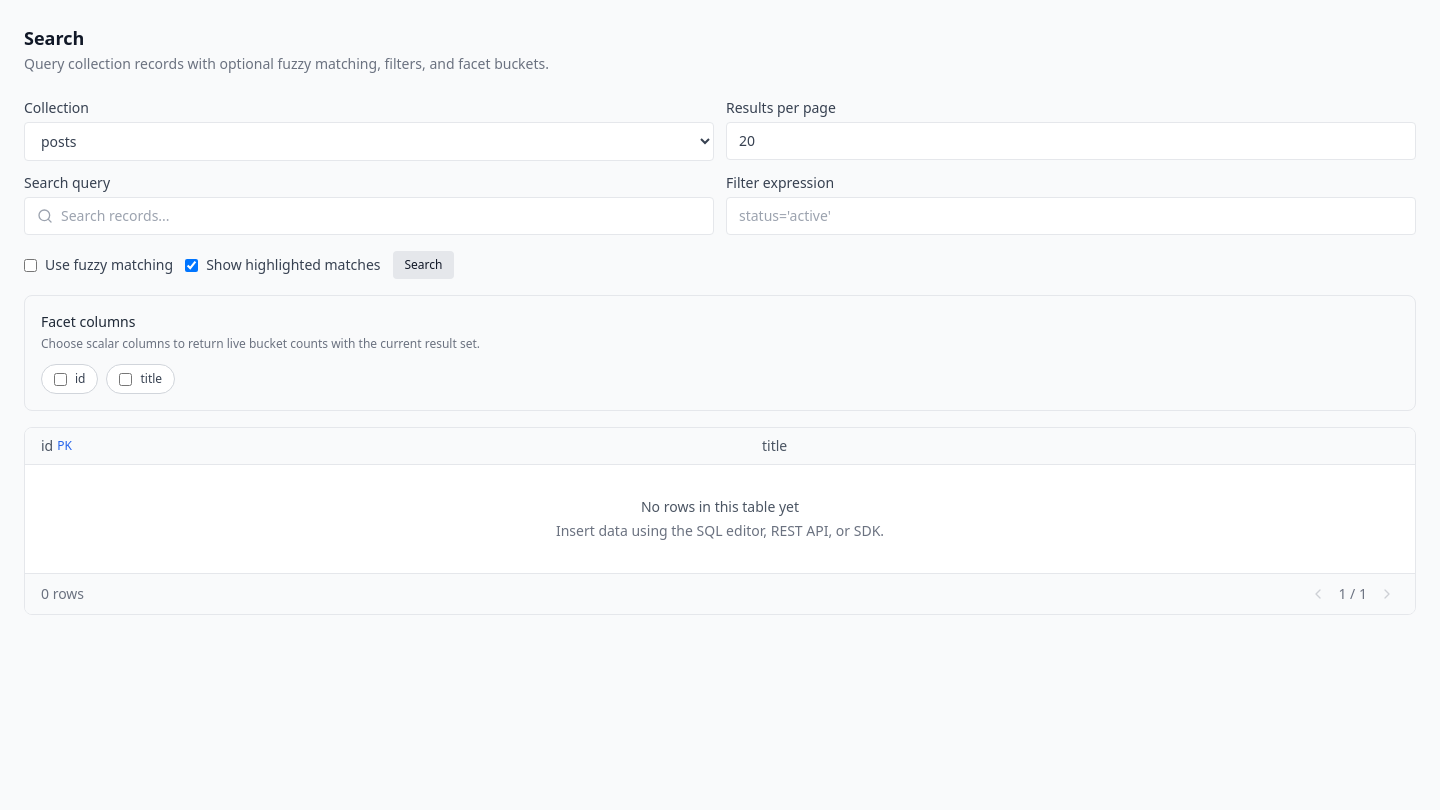
Test: Search › hides the Search-owned snippet surface when highlighted matches are toggled off
The image size is (1440, 810).
Type "alpha" into the field labelled "Search query" at point(381, 216), box [61,206,701,226]
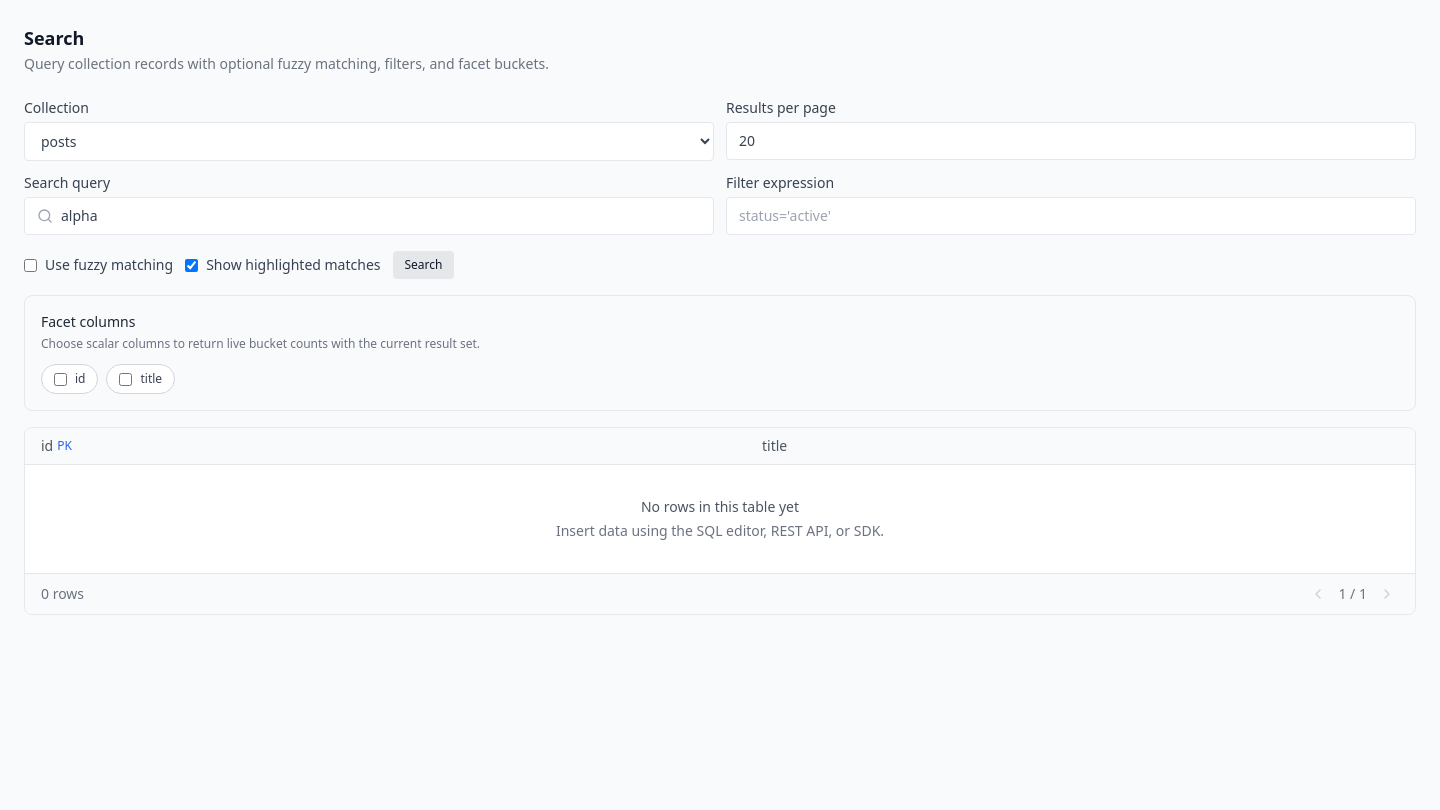
Click the button "Search" at point(424, 265), box [392,251,454,279]
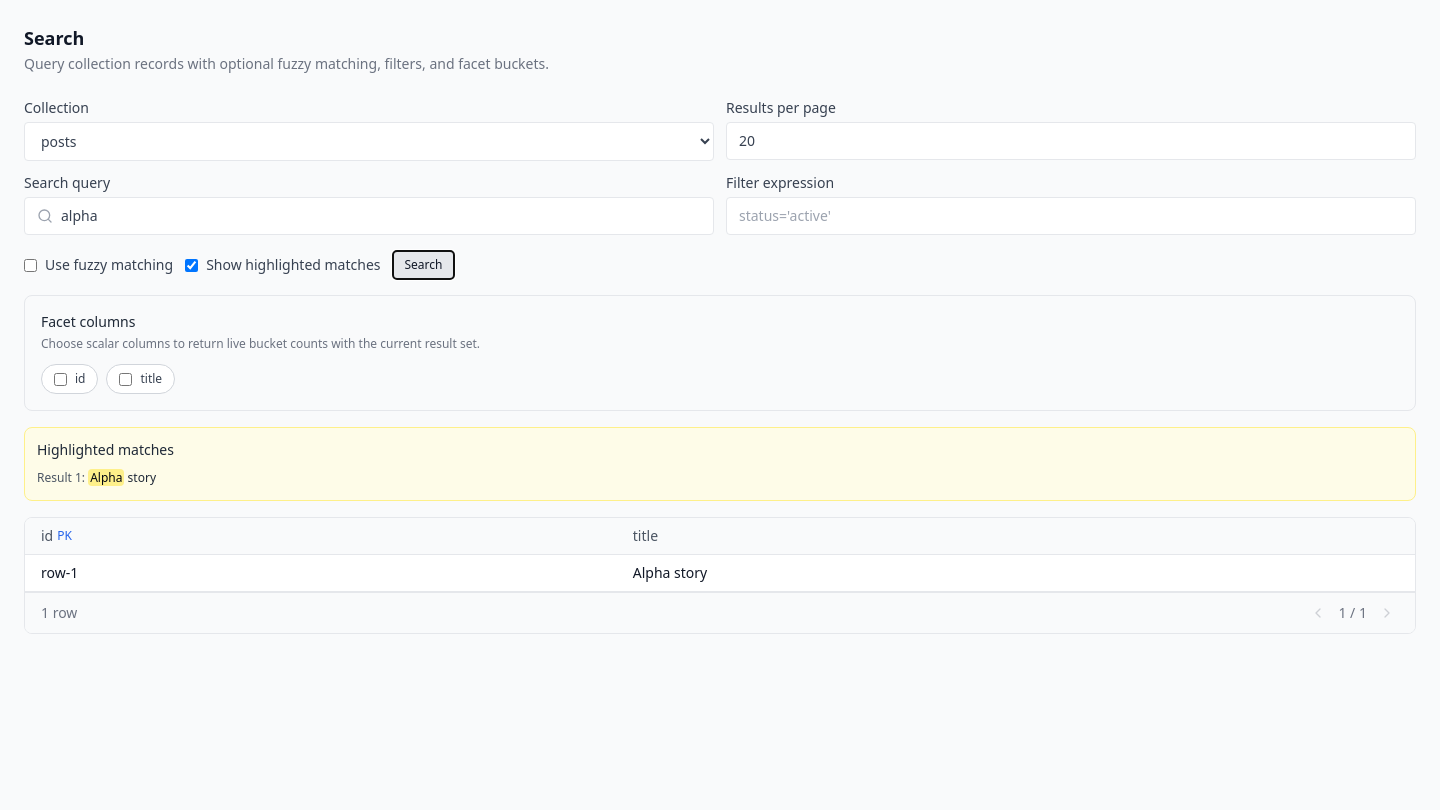
Result: the element with test id "search-highlight-results" is shown at [24,427,1416,501]
Click the checkbox labelled "Show highlighted matches" at point(192, 265), box [185,258,198,272]
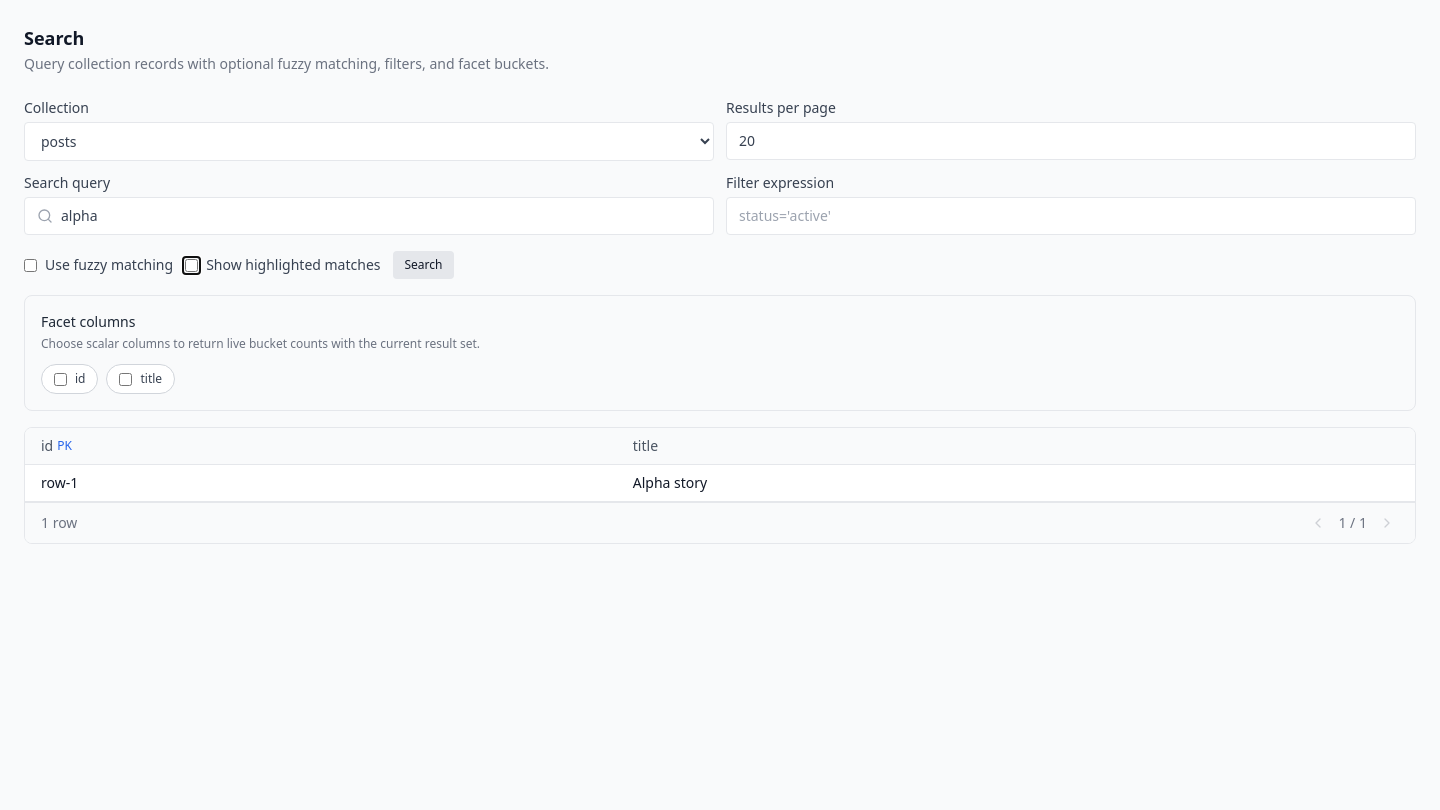
Result: the element with test id "search-highlight-results" is gone
